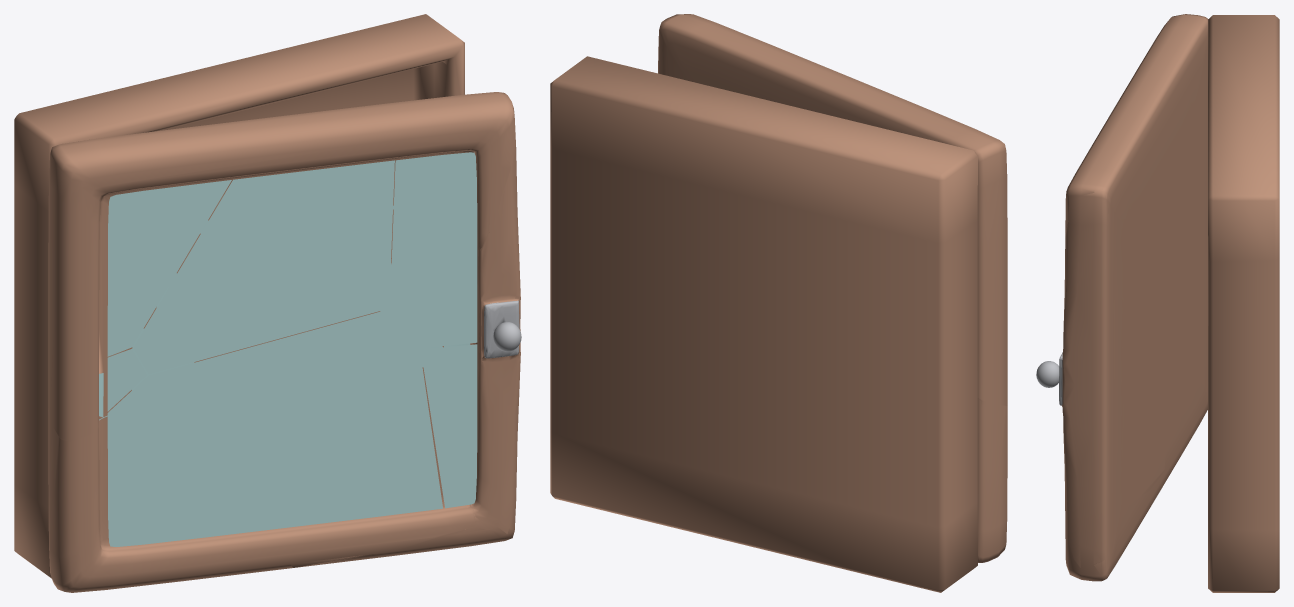
The model's file is Medicine_cabinet.fbx.
The picture shows the model from 3 angles, left to right: view 1: azimuth 30°, elevation 25°; view 2: azimuth 150°, elevation 25°; view 3: azimuth 270°, elevation 25°; orthographic projection. The views are drawn at different scales.
Visible parts, largest first — view 1: Bathroom_mirror.glass_cell.007, Bathroom_medicine_cabinet, Bathroom_mirror.glass_cell.004, Bathroom_mirror, Bathroom_mirror.001_cell.004, Bathroom_mirror.001_cell.001, Bathroom_mirror.glass_cell.005, Bathroom_mirror.001_cell.003, Bathroom_mirror.glass_cell.003, Bathroom_mirror.glass_cell.001, Bathroom_mirror.glass_cell.006, Bathroom_mirror.001_cell.002; view 2: Bathroom_medicine_cabinet, Bathroom_mirror, Bathroom_mirror.001_cell.004, Bathroom_mirror.001_cell.001; view 3: Bathroom_mirror, Bathroom_medicine_cabinet, Bathroom_mirror.001_cell.003, Bathroom_mirror.001_cell.004, Bathroom_mirror.001_cell.001, Bathroom_mirror.001_cell.002.
Part boxes in pixels (x1,y1,x2,y2): Bathroom_mirror.glass_cell.007: (107, 309, 442, 546); Bathroom_medicine_cabinet: (14, 14, 464, 578); Bathroom_mirror.glass_cell.004: (133, 160, 394, 374); Bathroom_mirror: (48, 92, 521, 584); Bathroom_mirror.001_cell.004: (48, 92, 515, 441); Bathroom_mirror.001_cell.001: (48, 346, 475, 592); Bathroom_mirror.glass_cell.005: (390, 152, 477, 347); Bathroom_mirror.001_cell.003: (470, 145, 520, 533); Bathroom_mirror.glass_cell.003: (107, 180, 231, 356); Bathroom_mirror.glass_cell.001: (420, 344, 477, 508); Bathroom_mirror.glass_cell.006: (107, 349, 147, 411); Bathroom_mirror.001_cell.002: (305, 527, 512, 566); Bathroom_medicine_cabinet: (550, 56, 977, 592); Bathroom_mirror: (658, 14, 1007, 561); Bathroom_mirror.001_cell.004: (663, 17, 1007, 405); Bathroom_mirror.001_cell.001: (977, 398, 1007, 562); Bathroom_mirror: (1037, 14, 1207, 581); Bathroom_medicine_cabinet: (1208, 15, 1279, 592); Bathroom_mirror.001_cell.003: (1036, 208, 1121, 567); Bathroom_mirror.001_cell.004: (1065, 14, 1207, 308); Bathroom_mirror.001_cell.001: (1120, 252, 1207, 517); Bathroom_mirror.001_cell.002: (1069, 471, 1163, 579).
Size of the model in its own units: 132 by 130 by 72.2.
